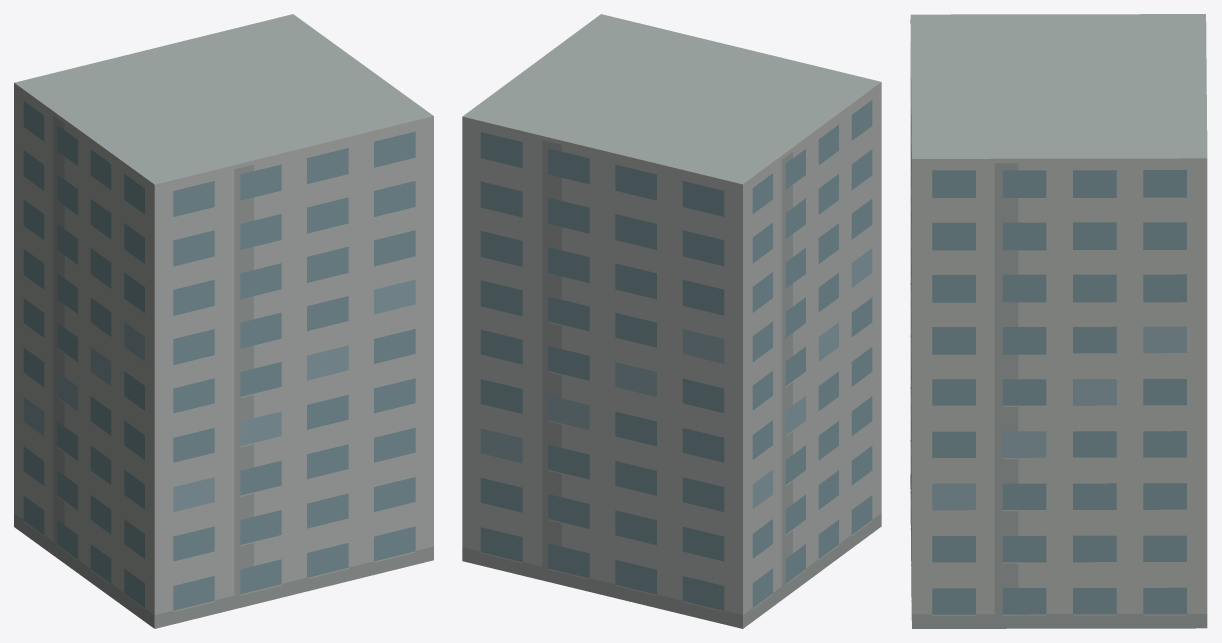
Rendered from residential-2f7f650e-3765-42e9-9662-06f12fb7a72b.glb.
3 views of the same model, side by side, from view 1: azimuth 30°, elevation 25°; view 2: azimuth 150°, elevation 25°; view 3: azimuth 270°, elevation 25° (orthographic). The views are drawn at different scales.
Parts seen in each view (by area): view 1: residential-2f7f650e-3765-42e9-9662-06f12fb7a72b.tmp; view 2: residential-2f7f650e-3765-42e9-9662-06f12fb7a72b.tmp; view 3: residential-2f7f650e-3765-42e9-9662-06f12fb7a72b.tmp.
Part boxes in pixels (x1=…): residential-2f7f650e-3765-42e9-9662-06f12fb7a72b.tmp: x1=14, y1=14, x2=433, y2=628; residential-2f7f650e-3765-42e9-9662-06f12fb7a72b.tmp: x1=462, y1=14, x2=881, y2=628; residential-2f7f650e-3765-42e9-9662-06f12fb7a72b.tmp: x1=910, y1=14, x2=1207, y2=628.
Size of the model in its own units: 17.21 by 26 by 14.9.
